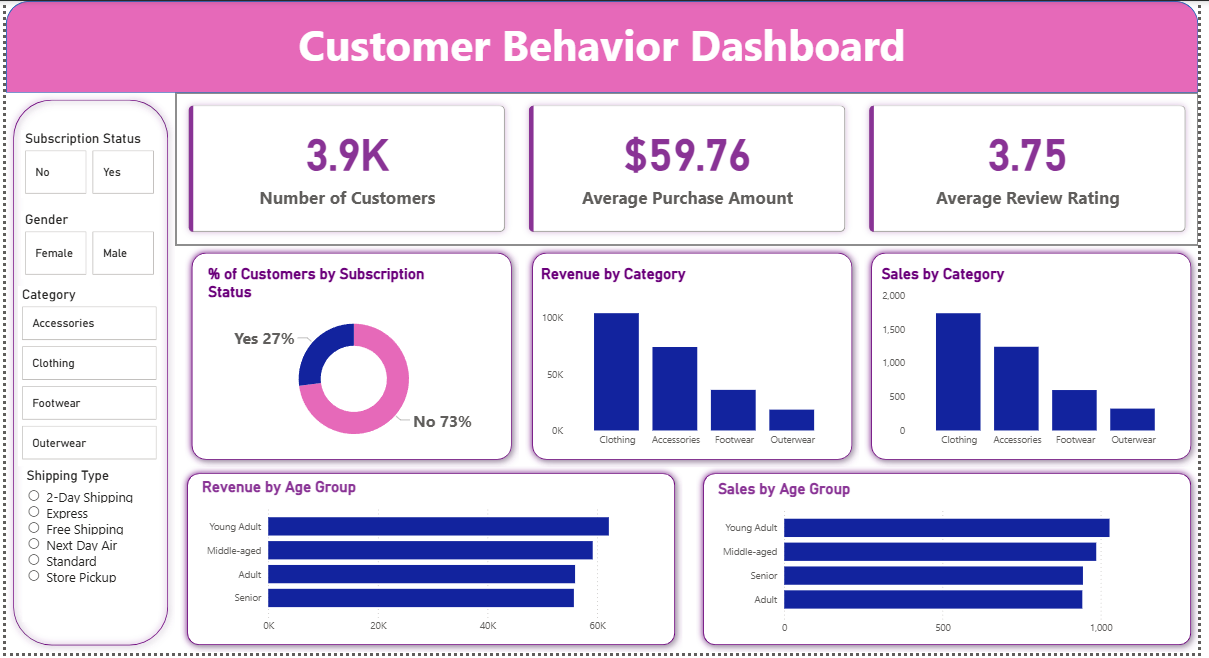

The dashboard page shown, as its layout file describes it:
{"tool":"powerbi","page":{"name":"Page 1","canvas":[1500,820],"ordinal":0},"visuals":[{"type":"cardVisual","fields":{"Data":["public customer.Number of Customers","public customer.Average Purchase Amount","public customer.Average Review Rating"]},"box":[212.9,115.3,1286.5,191.6],"z":2000},{"type":"shape","box":[218.3,585.6,631.7,234.2],"z":2500,"group":"g1"},{"type":"shape","box":[0,0,1499.4,115.3],"z":3000},{"type":"textbox","box":[0,12.4,1499.4,102.9],"z":4000},{"type":"shape","box":[225.4,307,420.5,278.6],"z":5000},{"type":"donutChart","title":"% of Customers by Subscription Status","fields":{"Category":["public customer.subscription_status"],"Y":["CountNonNull(public customer.customer_id)"]},"box":[248.4,331.8,376.2,237.8],"z":6000},{"type":"shape","box":[1078.9,307,420.5,278.6],"z":7000},{"type":"shape","box":[652.1,307,420.5,278.6],"z":8000},{"type":"clusteredColumnChart","title":"Revenue by Category","fields":{"Y":["Sum(public customer.purchase_amount)"],"Category":["public customer.category"]},"box":[667.2,331.8,385.1,237.8],"z":9000},{"type":"clusteredColumnChart","title":"Sales by Category","fields":{"Y":["CountNonNull(public customer.customer_id)"],"Category":["public customer.category"]},"box":[1096.6,331.8,385.1,237.8],"z":10000},{"type":"shape","box":[0,115.3,212.9,704.5],"z":11000},{"type":"advancedSlicerVisual","fields":{"Values":["public customer.subscription_status"]},"box":[19.5,161.5,173.9,85.2],"z":12000},{"type":"advancedSlicerVisual","fields":{"Values":["public customer.gender"]},"box":[19.5,264.4,173.9,85.2],"z":13000},{"type":"advancedSlicerVisual","fields":{"Values":["public customer.category"]},"box":[15.1,358.4,179.2,226.4],"z":14000},{"type":"listSlicer","fields":{"Values":["public customer.shipping_type"]},"box":[20.8,586.7,169.8,194.3],"z":15000},{"type":"shape","box":[867.7,585.6,631.7,234.2],"z":16000},{"type":"clusteredBarChart","title":"Sales by Age Group","fields":{"Y":["CountNonNull(public customer.customer_id)"],"Category":["public customer.age_group"]},"box":[890.8,601.5,585.6,204.1],"z":17000},{"type":"clusteredBarChart","title":"Revenue by Age Group","fields":{"Y":["Sum(public customer.purchase_amount)"],"Category":["public customer.age_group"]},"box":[241.4,601.6,585.6,204.1],"z":17500,"group":"g1"},{"type":"group","id":"g1","title":"Group 1","box":[218.3,585.6,631.7,234.2],"z":17501}]}

Visuals, with their boxes in screenshot pixels (x1, y1, x2, y2), scaled from the page's 1500x820 canvas onto the 1209x658 screenshot:
cardVisual - public customer.Number of Customers x public customer.Average Purchase Amount: l=172, t=93, r=1208, b=246
shape: l=176, t=470, r=685, b=657
shape: l=0, t=0, r=1208, b=93
textbox: l=0, t=10, r=1208, b=93
shape: l=182, t=246, r=521, b=470
"% of Customers by Subscription Status" donutChart: l=200, t=266, r=503, b=457
shape: l=870, t=246, r=1208, b=470
shape: l=526, t=246, r=865, b=470
"Revenue by Category" clusteredColumnChart: l=538, t=266, r=848, b=457
"Sales by Category" clusteredColumnChart: l=884, t=266, r=1194, b=457
shape: l=0, t=93, r=172, b=657
advancedSlicerVisual - public customer.subscription_status: l=16, t=130, r=156, b=198
advancedSlicerVisual - public customer.gender: l=16, t=212, r=156, b=281
advancedSlicerVisual - public customer.category: l=12, t=288, r=157, b=469
listSlicer - public customer.shipping_type: l=17, t=471, r=154, b=627
shape: l=699, t=470, r=1208, b=657
"Sales by Age Group" clusteredBarChart: l=718, t=483, r=1190, b=646
"Revenue by Age Group" clusteredBarChart: l=195, t=483, r=667, b=647
"Group 1" group: l=176, t=470, r=685, b=657
